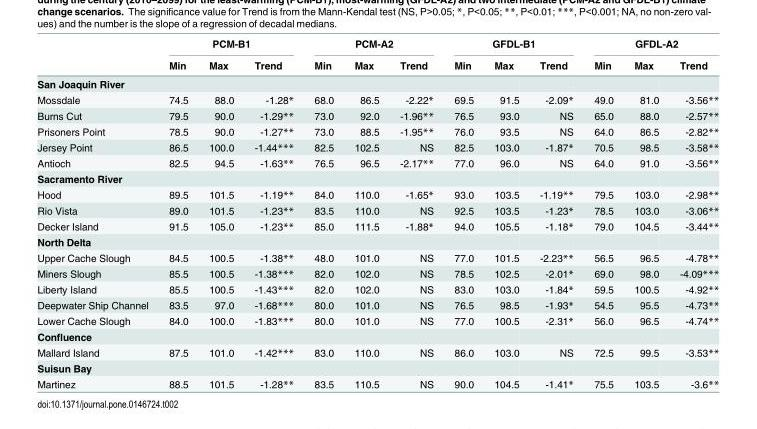table: (36, 37, 718, 389)
table column: (36, 37, 157, 389), (243, 37, 303, 389), (388, 37, 443, 389), (528, 37, 583, 389), (668, 37, 718, 389), (197, 37, 243, 389), (343, 37, 388, 389), (483, 37, 528, 389), (623, 37, 668, 389), (157, 37, 197, 389), (303, 37, 343, 389), (443, 37, 483, 389), (583, 37, 623, 389)
table column header: (36, 37, 718, 74)
table projected row header: (36, 74, 718, 91), (36, 170, 718, 186), (36, 233, 718, 249), (36, 328, 718, 344), (36, 359, 718, 375)
table row: (36, 53, 718, 74), (36, 74, 718, 91), (36, 37, 718, 53), (36, 91, 718, 107), (36, 107, 718, 123), (36, 123, 718, 139), (36, 154, 718, 170), (36, 170, 718, 186), (36, 186, 718, 202), (36, 202, 718, 218), (36, 233, 718, 249), (36, 249, 718, 265), (36, 265, 718, 281), (36, 296, 718, 312), (36, 312, 718, 328), (36, 328, 718, 344), (36, 359, 718, 375), (36, 139, 718, 154), (36, 218, 718, 233), (36, 281, 718, 296), (36, 344, 718, 359), (36, 375, 718, 389)
table spanning cell: (157, 37, 303, 53), (303, 37, 443, 53), (443, 37, 583, 53), (583, 37, 718, 53)
